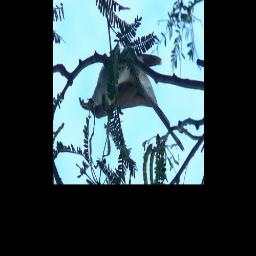Cuckoo: (80, 41, 188, 154)
